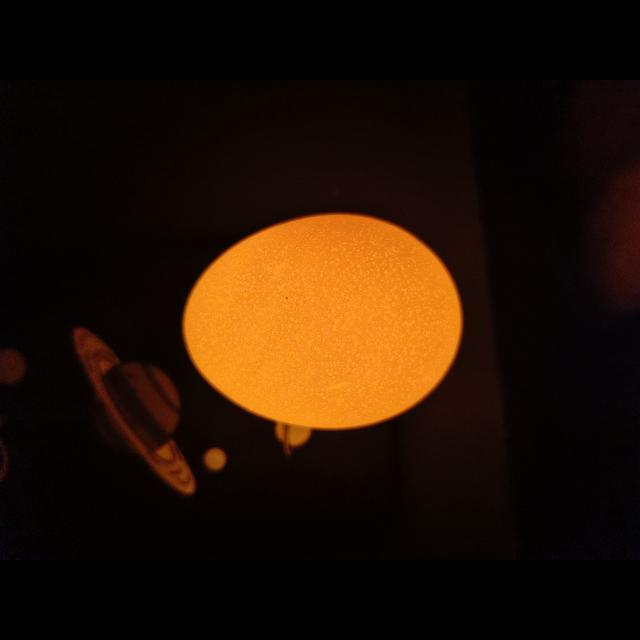AA - Premium: (183, 214, 463, 429)
